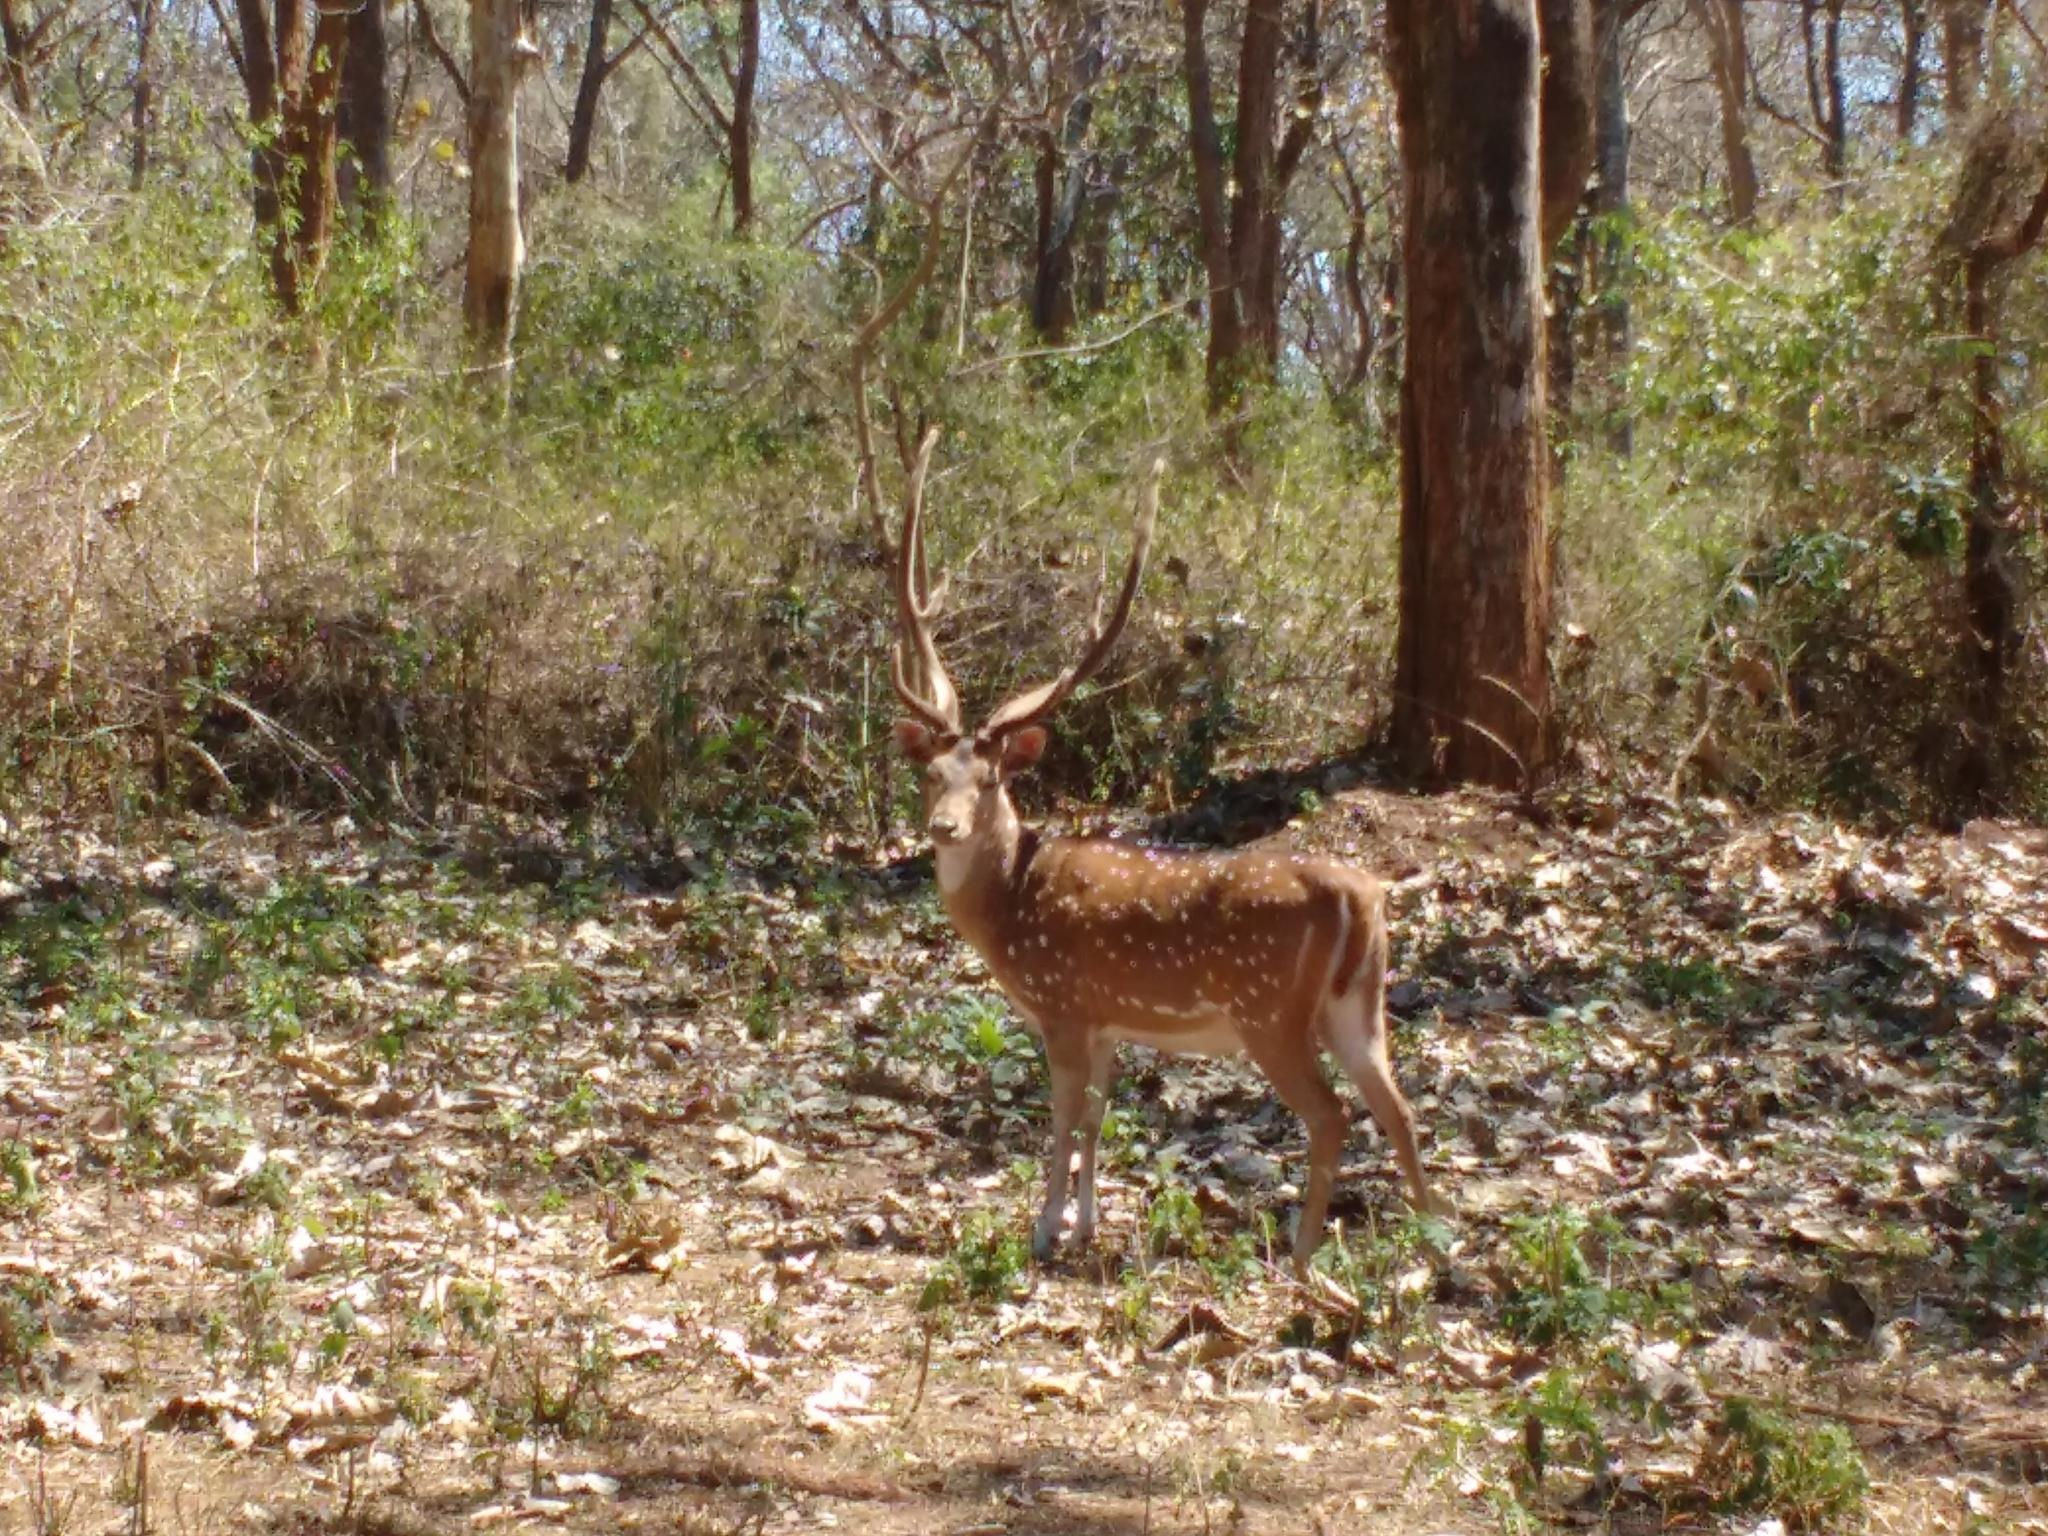Deer: (895, 429, 1429, 1283)
